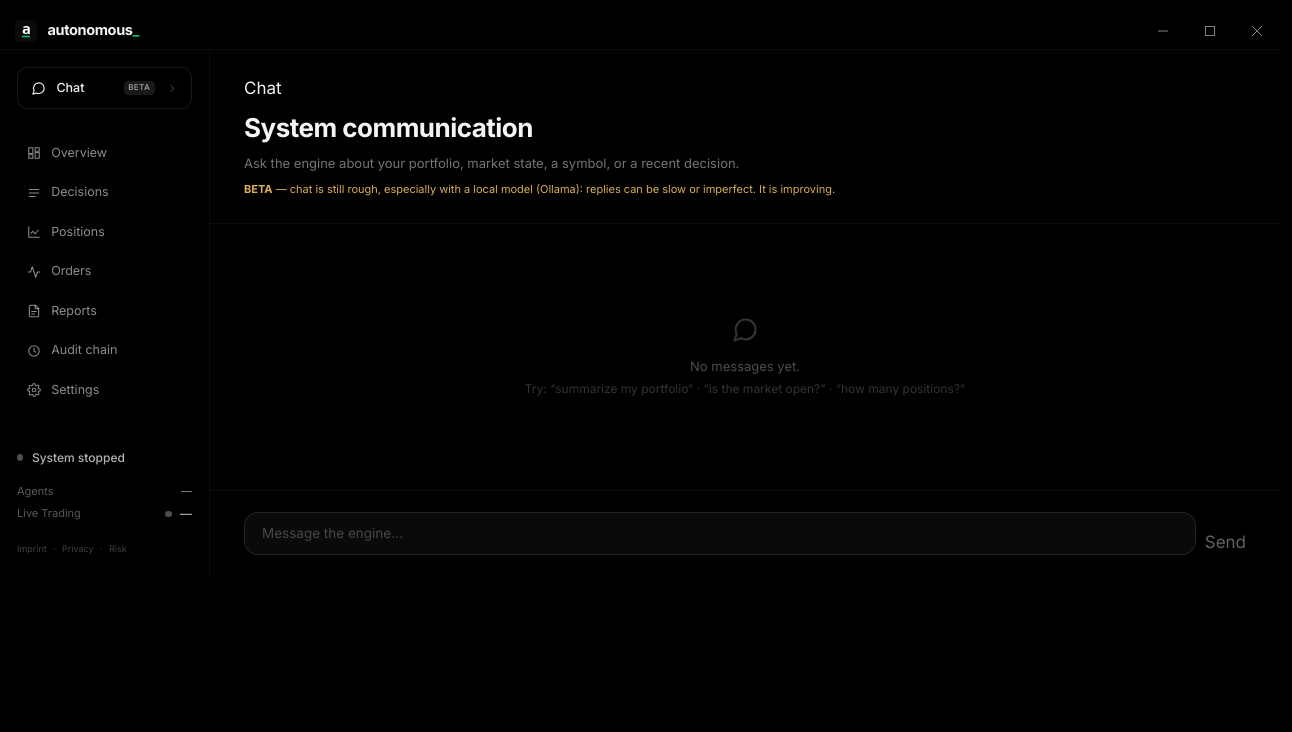
Test: Journey · Support (ask the engine) › shows a clean line when the engine can't be reached
Type "is the market open?" into the text box with placeholder "Message the engine…".
click(720, 534); type("is the market open?")  # box [244,512,1196,555]
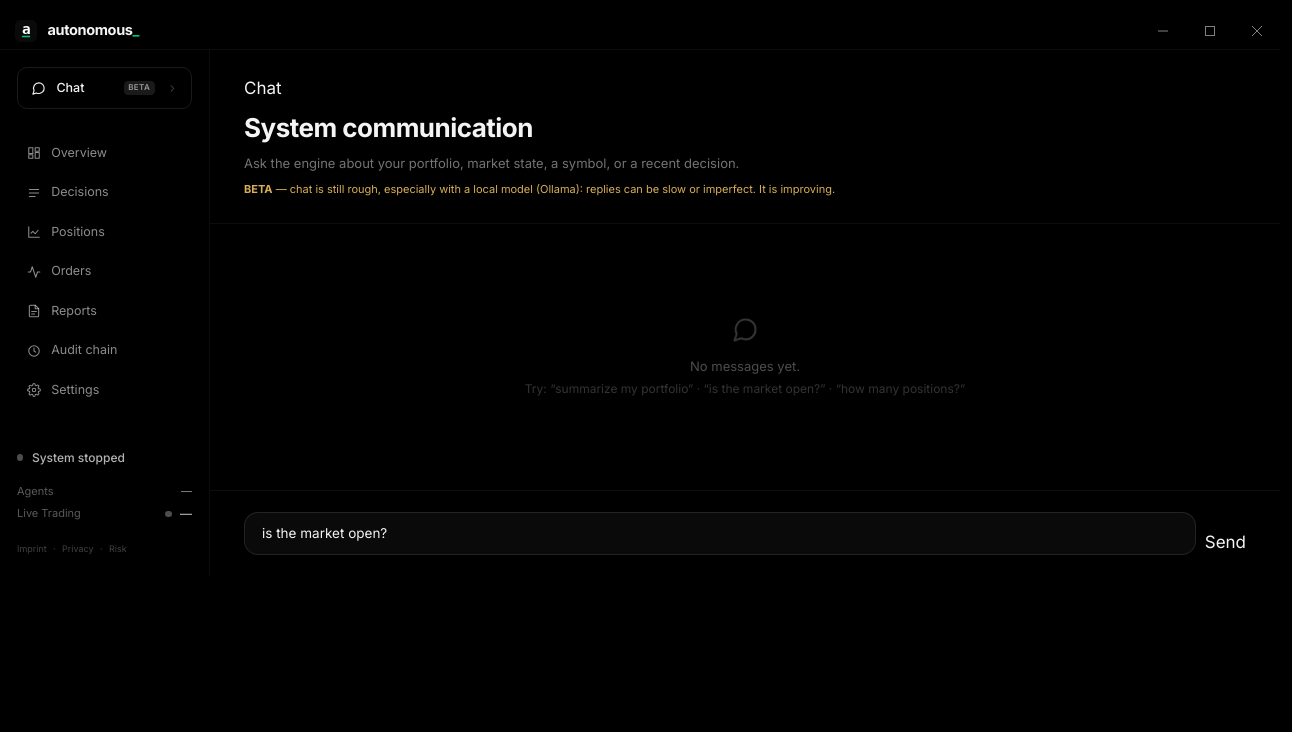
Click the button "Send".
click(1225, 543)  # box [1205,530,1246,555]
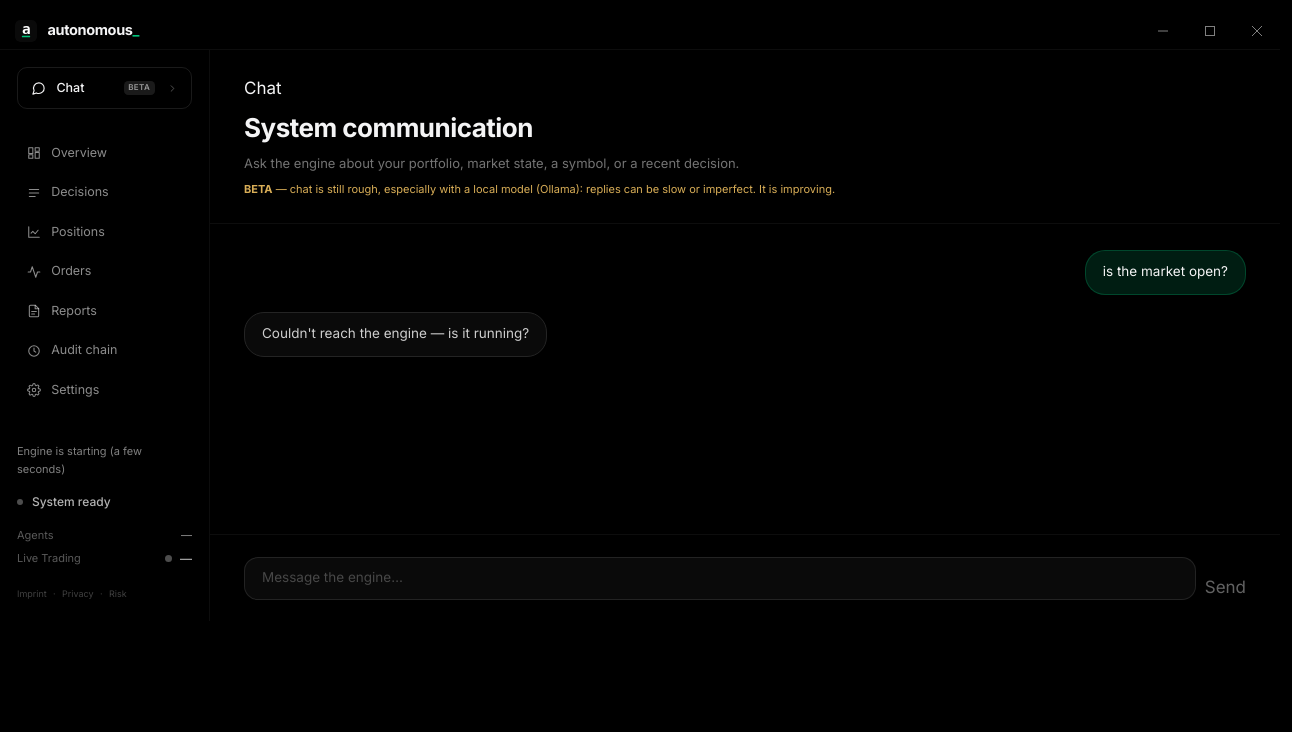
Result: the text "Couldn't reach the engine — is it running?" is shown at [244,312,547,357]
